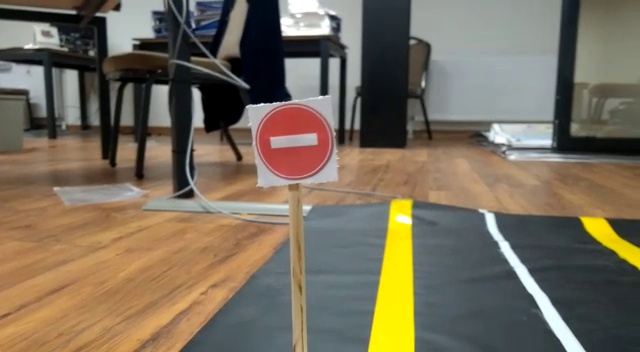girisi_olmayan_yol: (244, 97, 339, 182)
